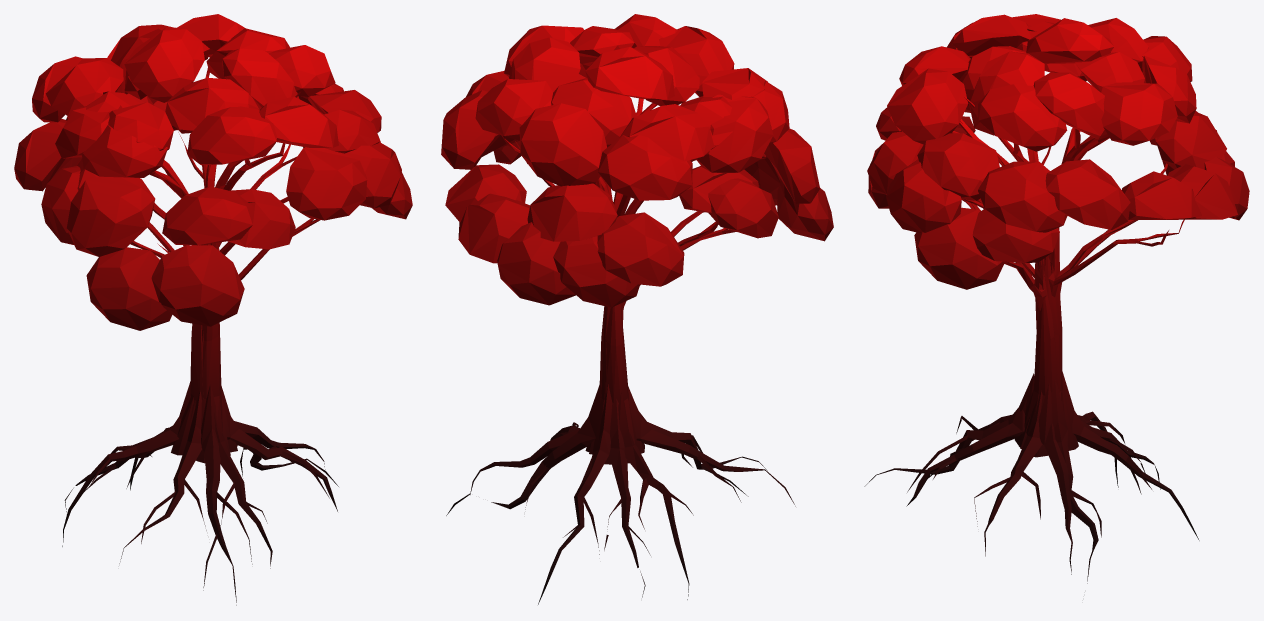
The model's file is TreeMahogany02.fbx.
3 views of the same model, side by side, from view 1: azimuth 30°, elevation 25°; view 2: azimuth 150°, elevation 25°; view 3: azimuth 270°, elevation 25° (orthographic).
Parts seen in each view (by area): view 1: TreeMahogany02_LOD0; view 2: TreeMahogany02_LOD0; view 3: TreeMahogany02_LOD0.
Boxes of the visible parts, left/top/right/bottom form: TreeMahogany02_LOD0: left=14, top=14, right=412, bottom=605; TreeMahogany02_LOD0: left=441, top=14, right=833, bottom=604; TreeMahogany02_LOD0: left=864, top=14, right=1249, bottom=583.
Size of what is drawn, in the model's own units: 1071 by 1597 by 1103.
